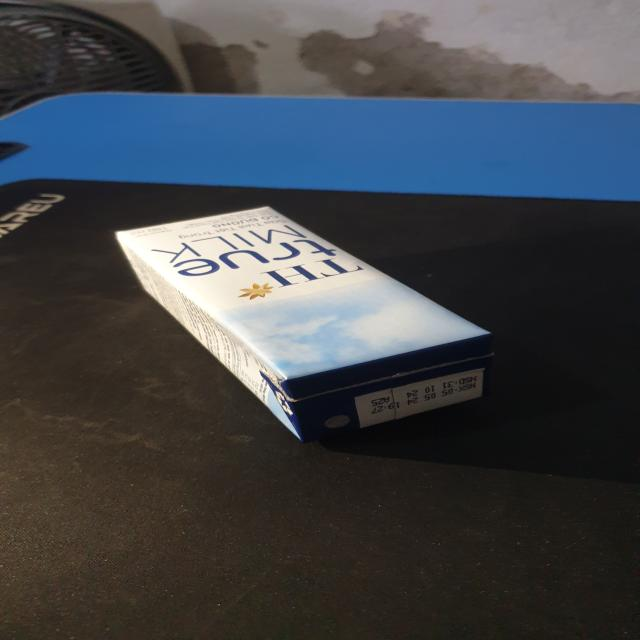TH: (117, 207, 495, 450)
